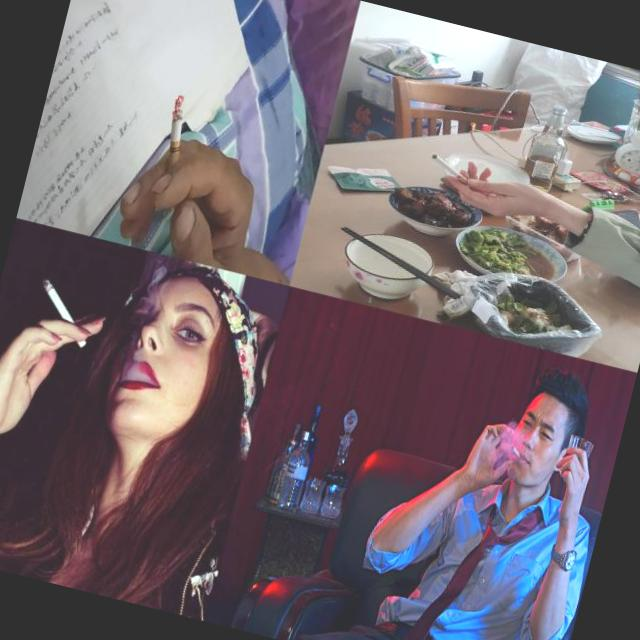cigarette: (22, 274, 98, 350), (154, 94, 198, 194), (426, 154, 476, 186), (506, 438, 525, 458)
